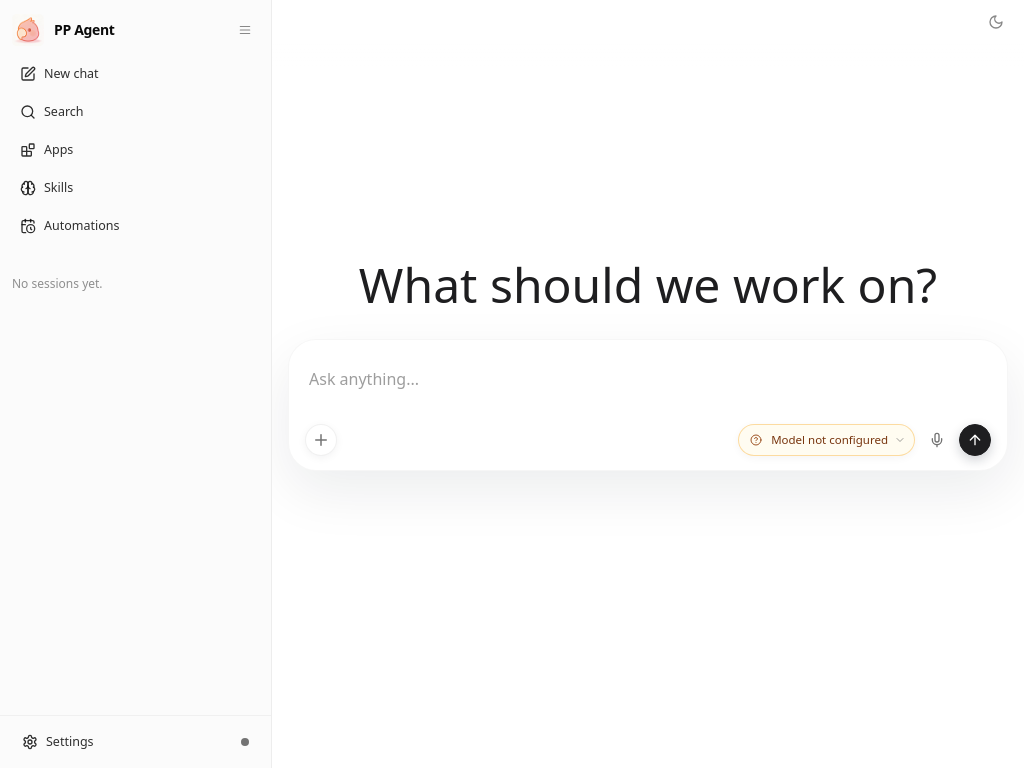
it: App layout › opens Apps from the main sidebar without replacing the sidebar
Click the button "Apps": point(136, 150) [8,134,263,166]
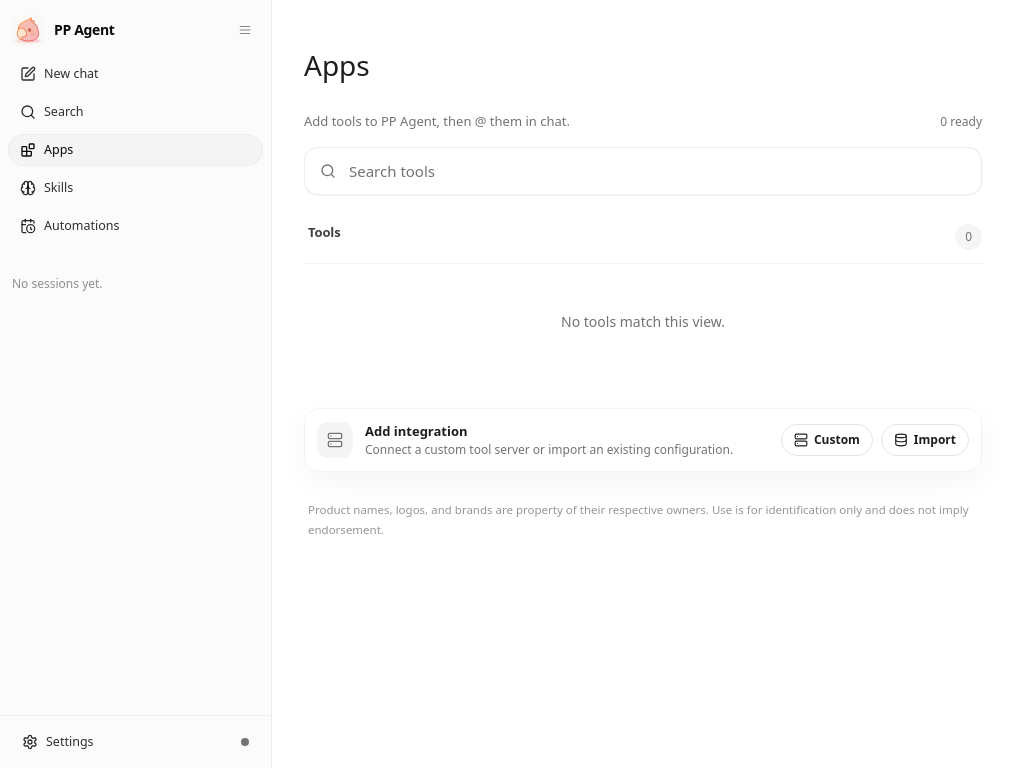
Expected: the navigation bar named "Sidebar navigation" is shown, [0,0,272,767]
Expected: the heading "Apps" is shown, [304,46,370,84]
